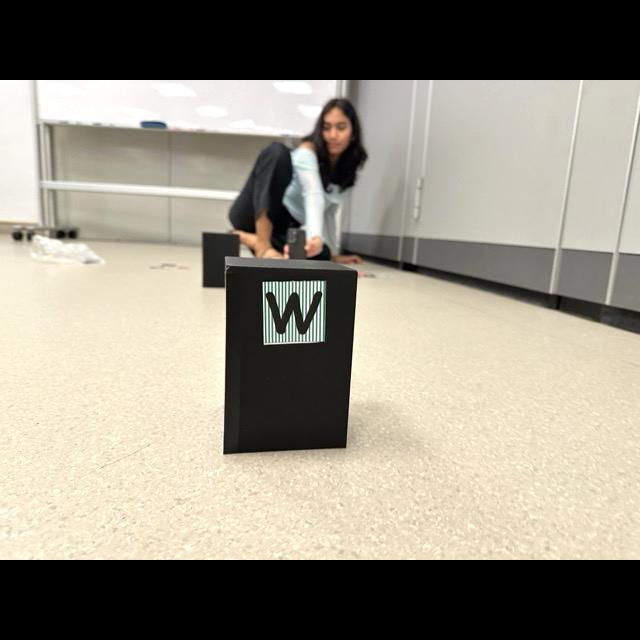W: (265, 291, 321, 334)
